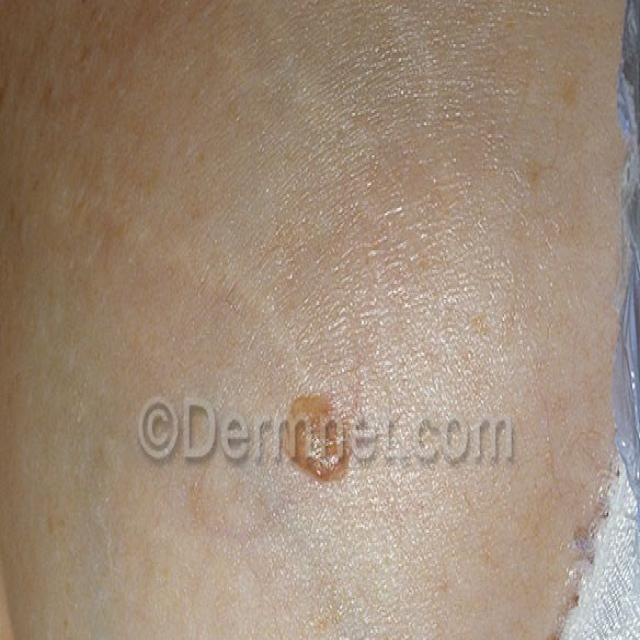Vascular Tumors: (283, 377, 355, 486)
